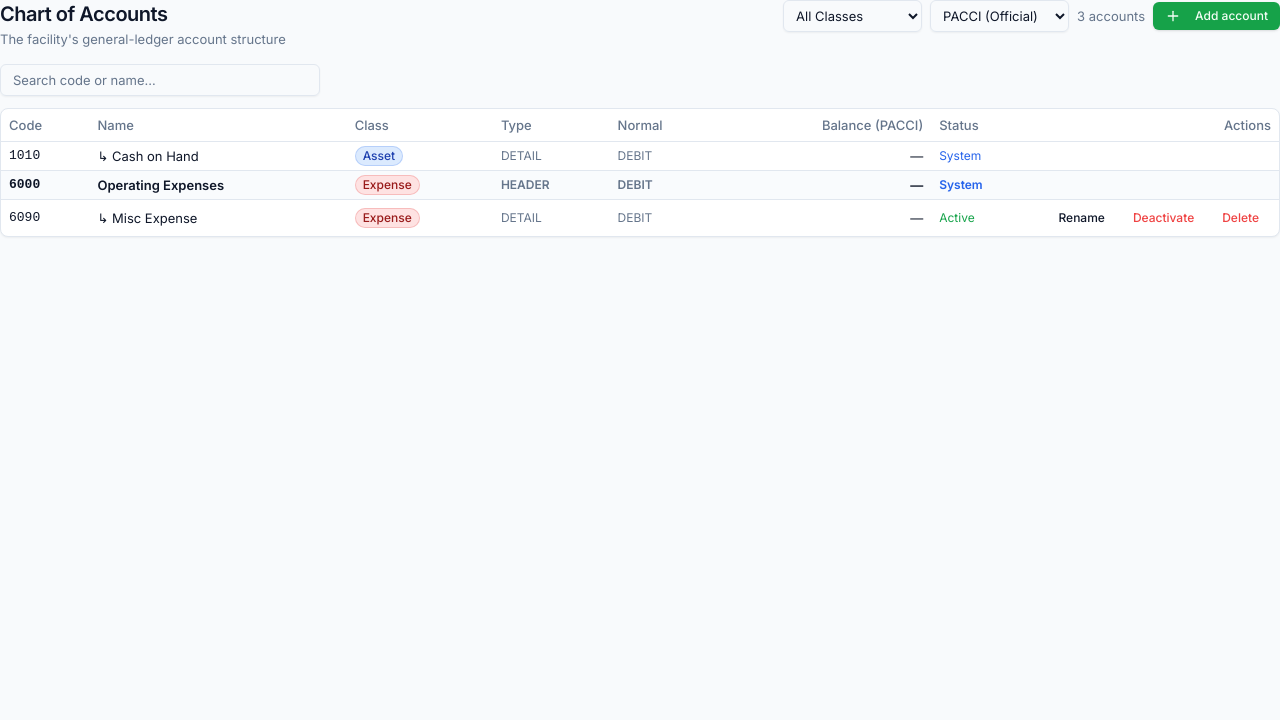
ChartOfAccountsPage — owner management › does not require a parent for a HEADER account, even outside EQUITY
Expected: the text "↳ Misc Expense" is shown, x1=90 y1=199 x2=347 y2=236
Click the button "Add account" at (1217, 16), box x1=1153 y1=2 x2=1279 y2=30
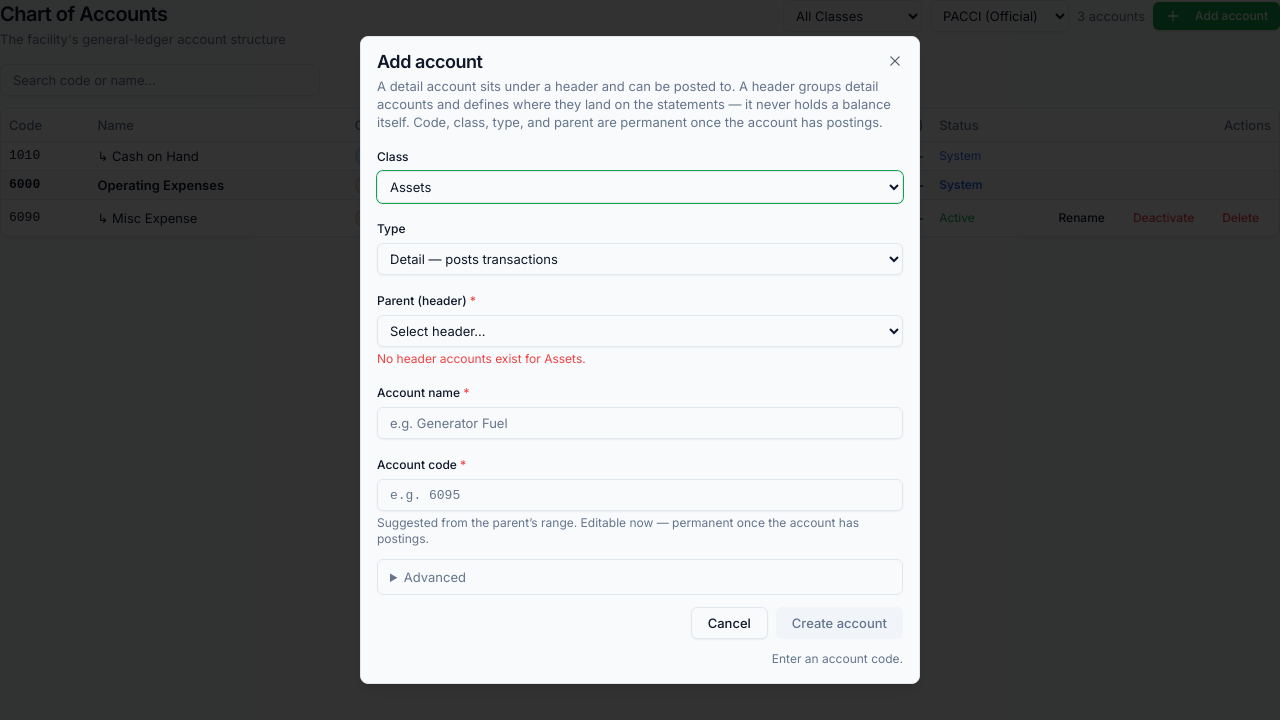
Select "Expenses" in the dropdown labelled "Class" at (640, 187), box x1=377 y1=171 x2=903 y2=203
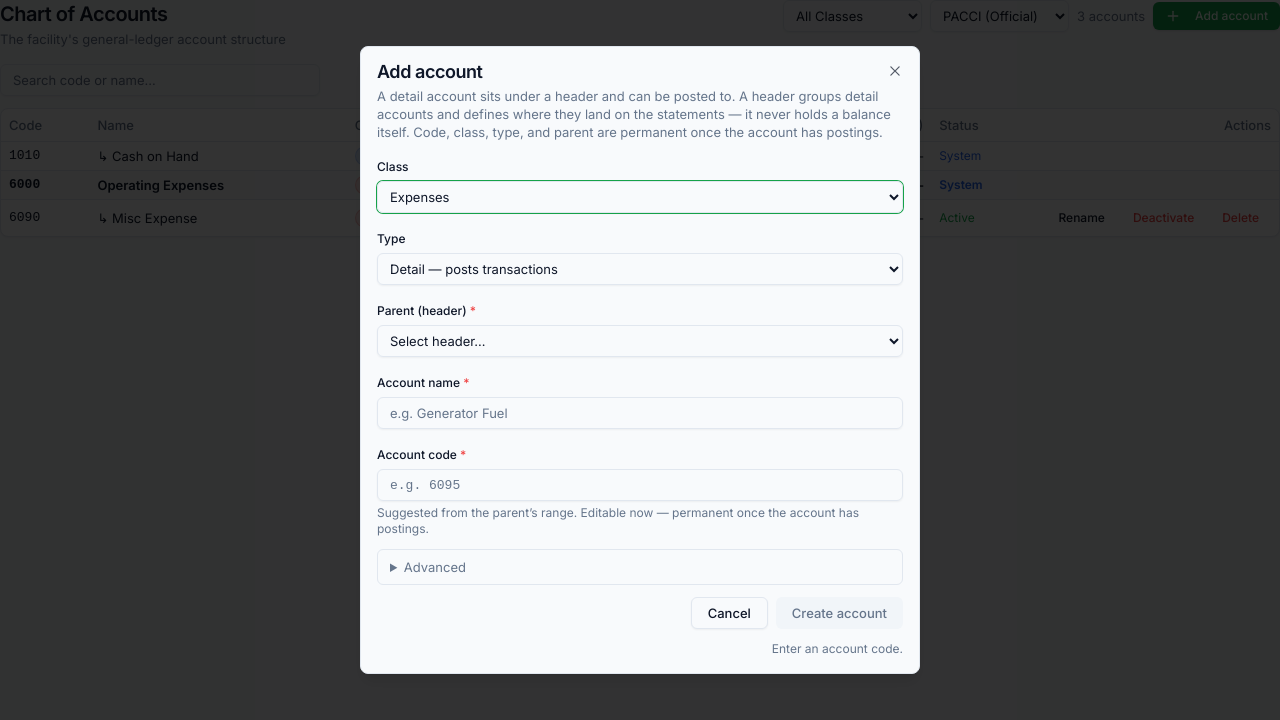
Select "Header — groups detail accounts" in the dropdown labelled "Type" at (640, 269), box x1=377 y1=253 x2=903 y2=285
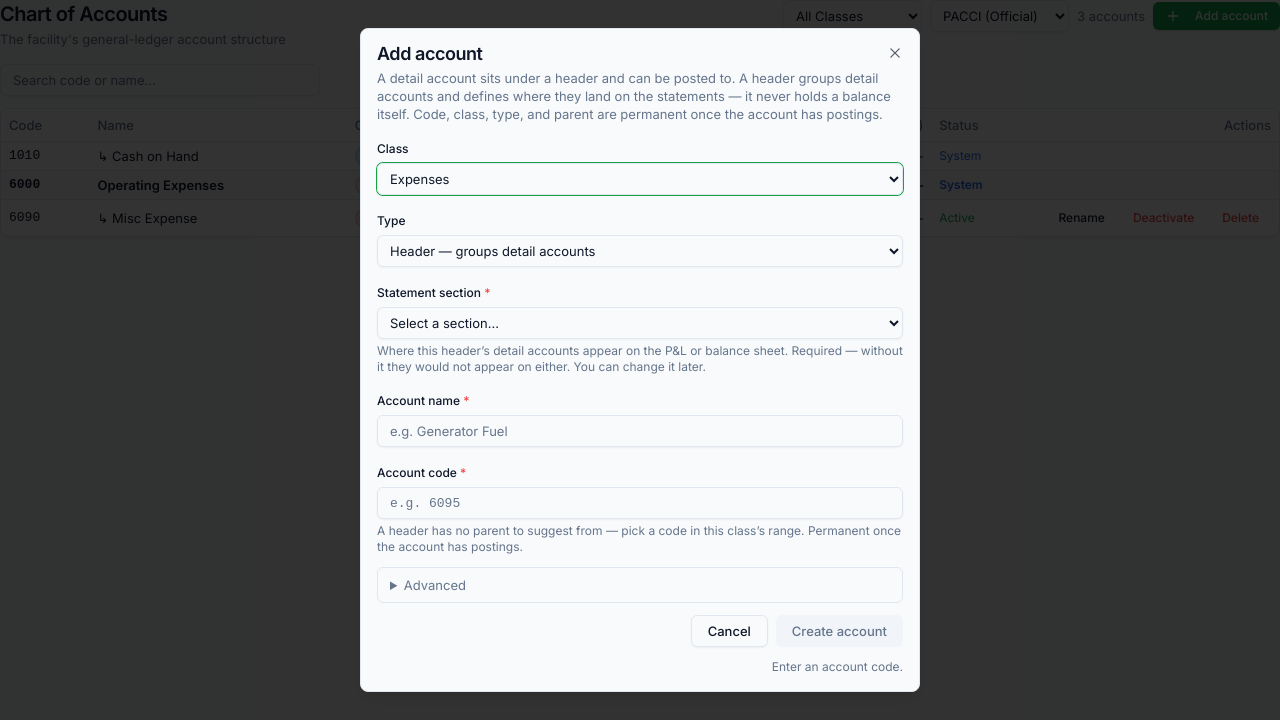
Select "Operating Expenses" in the dropdown labelled "Statement section *" at (640, 323), box x1=377 y1=307 x2=903 y2=339
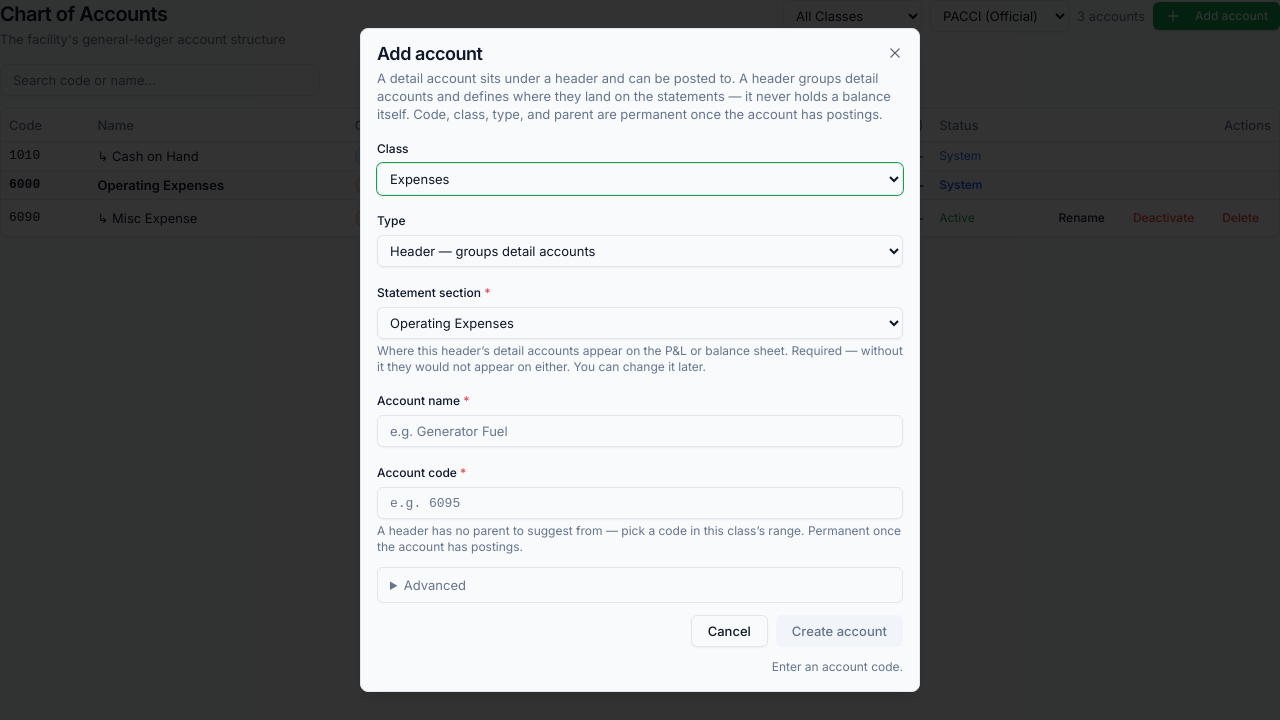
Type "New Overhead Group" into the field labelled "Account name *" at (640, 431), box x1=377 y1=415 x2=903 y2=447
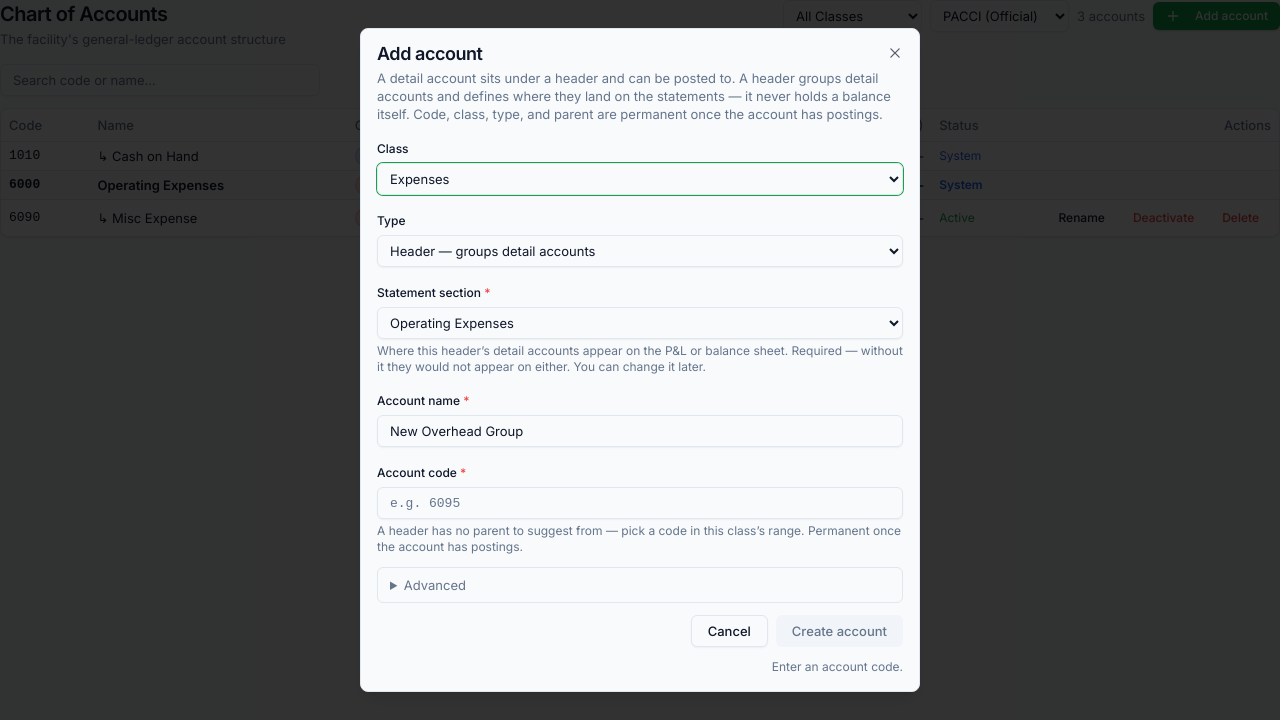
Type "6200" into the field labelled "Account code *" at (640, 503), box x1=377 y1=487 x2=903 y2=519
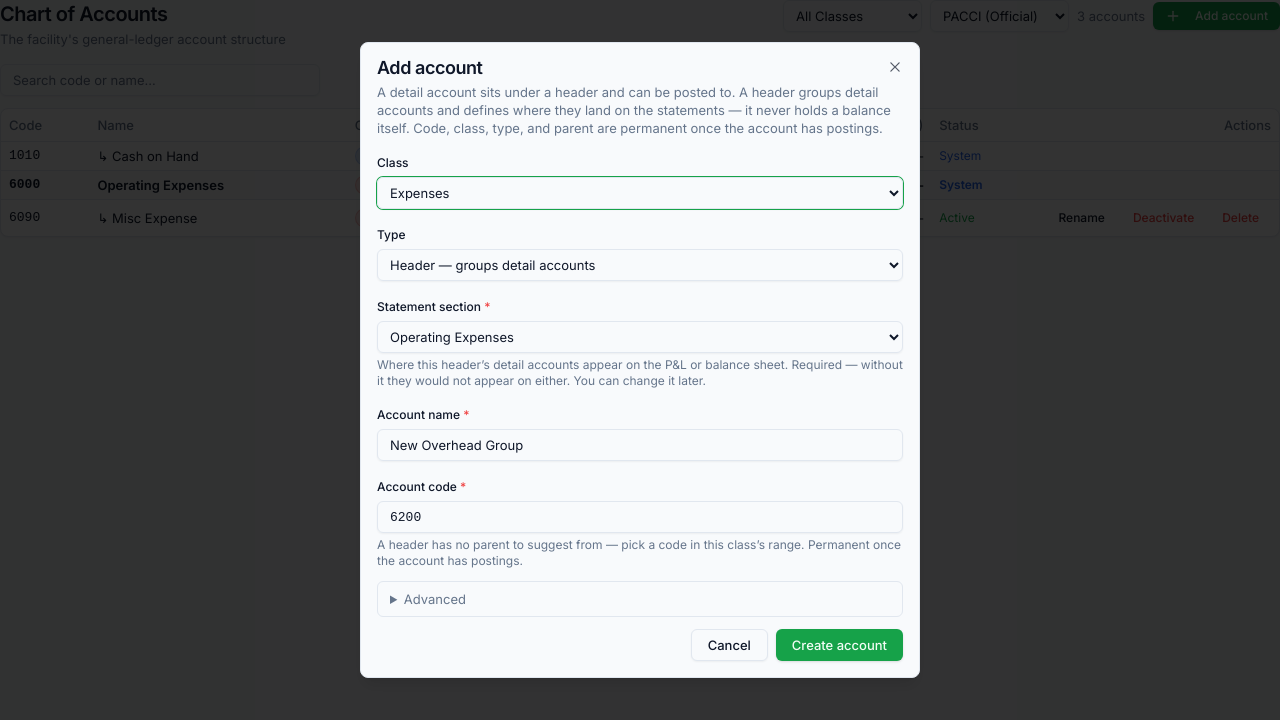
Expected: the button "Create account" is enabled, x1=776 y1=629 x2=903 y2=661
